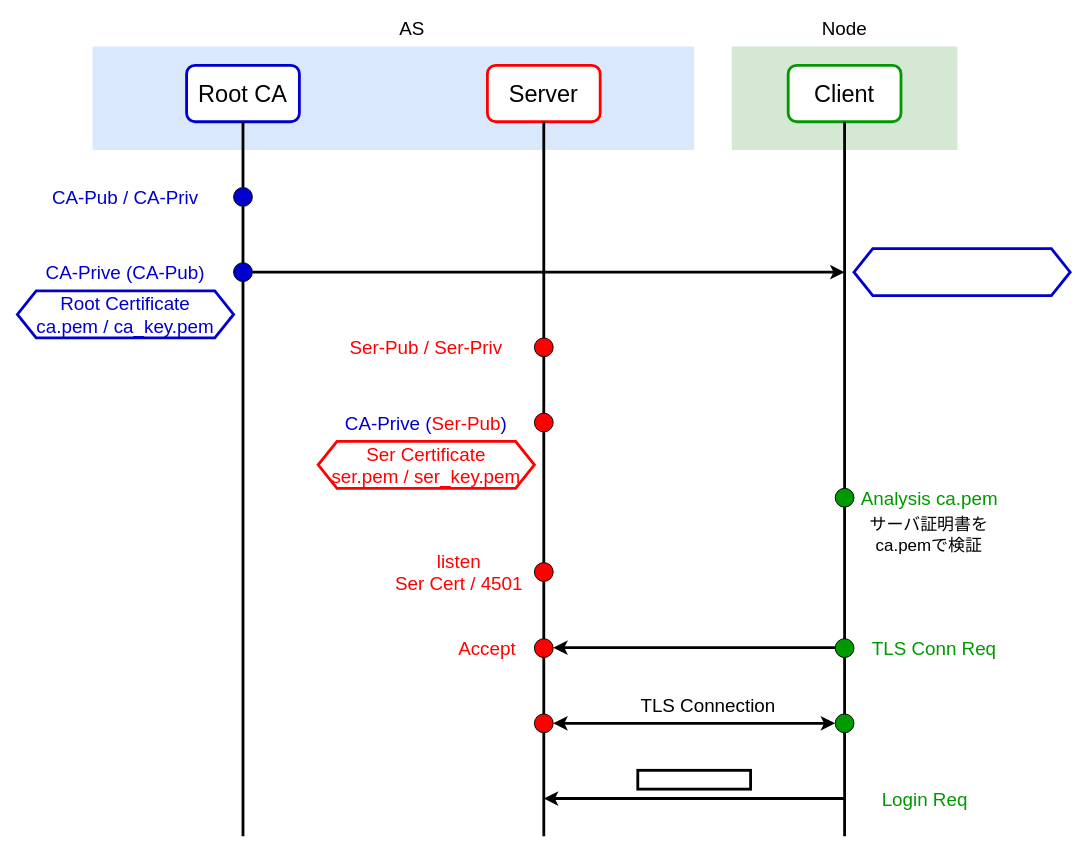
Image size: 1088x854. Some labels were removed from this diagram. The shapes that lost their labels are listed below. From the top down, each one's box as (x1, y1, x2, y2) in pixels, then its label:
(852, 247, 1071, 297): Root Certificate ca.pem
(636, 768, 752, 790): SSL/TLS
